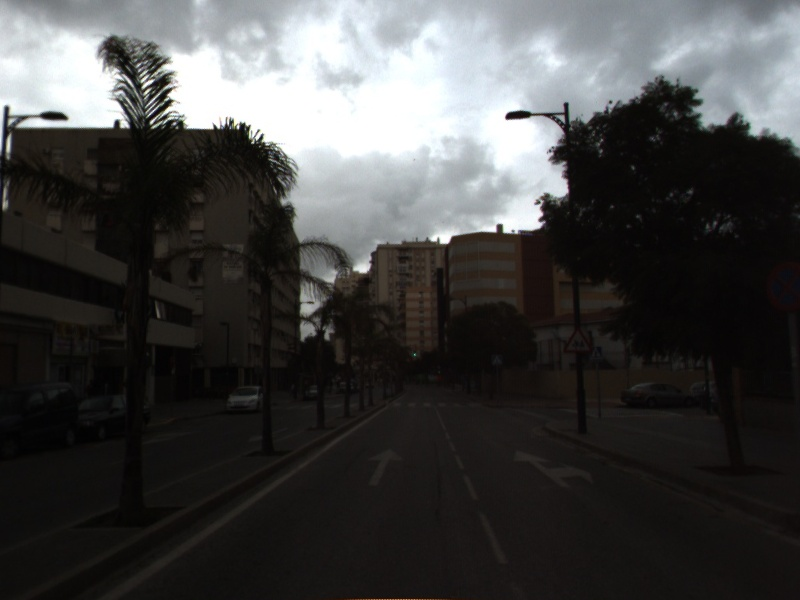STRAIGHT: (365, 446, 408, 488)
STRAIGHT_RIGHT: (510, 448, 595, 489)
